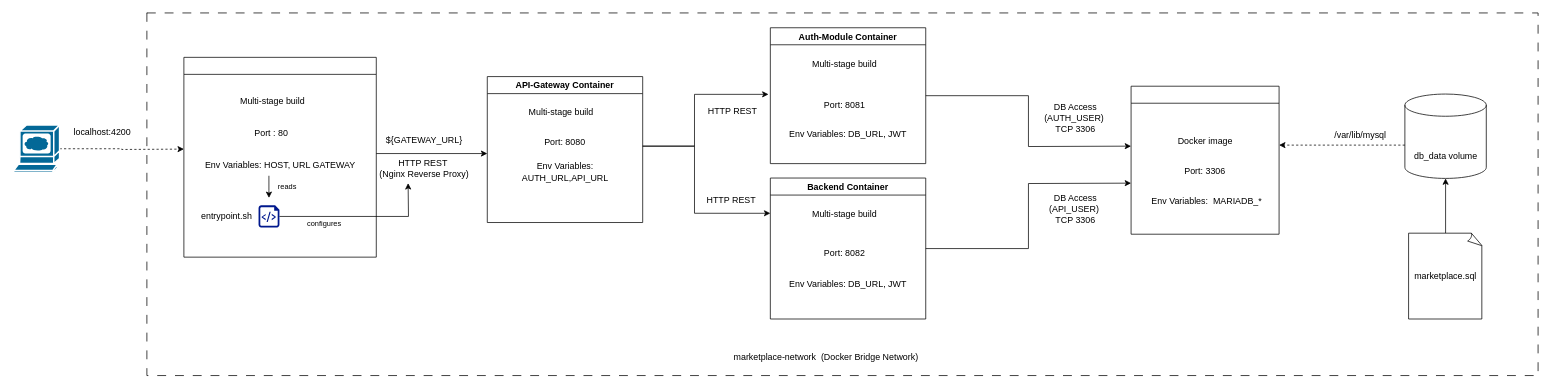
Some shapes in this 1551 by 389 pixel diagram are drawn without their labels. Each missing label, with the box of its shape:
Frontend Container: (183, 57, 376, 257)
MariaDB Container: (1130, 85, 1279, 234)
